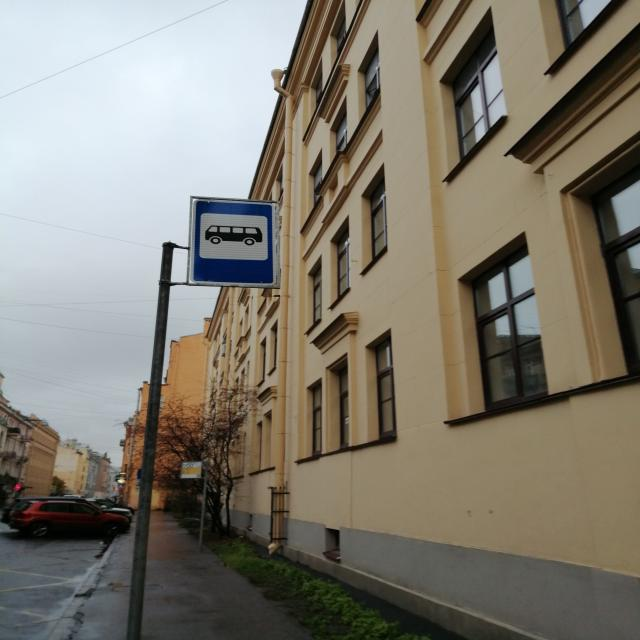road sign: (191, 200, 278, 287)
